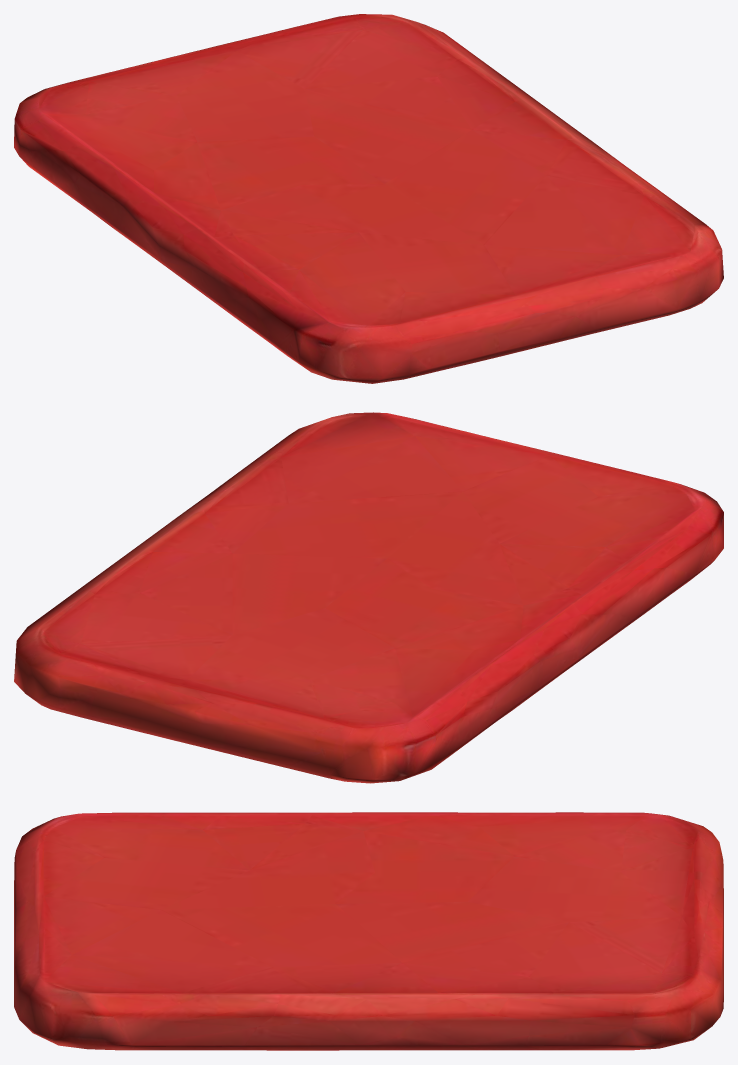
The model's file is tepsi.glb.
The picture shows the model from 3 angles, top to bottom: view 1: azimuth 30°, elevation 25°; view 2: azimuth 150°, elevation 25°; view 3: azimuth 270°, elevation 25°; orthographic projection.
Parts seen in each view (by area): view 1: Mesh_0; view 2: Mesh_0; view 3: Mesh_0.
Part boxes in pixels (box(x1,y1,x2,y2)): Mesh_0: box(14, 14, 723, 383); Mesh_0: box(14, 412, 723, 783); Mesh_0: box(14, 812, 723, 1050).
Size of the model in its own units: 0.2848 by 0.033 by 0.42.
1 material, 1 textured.
